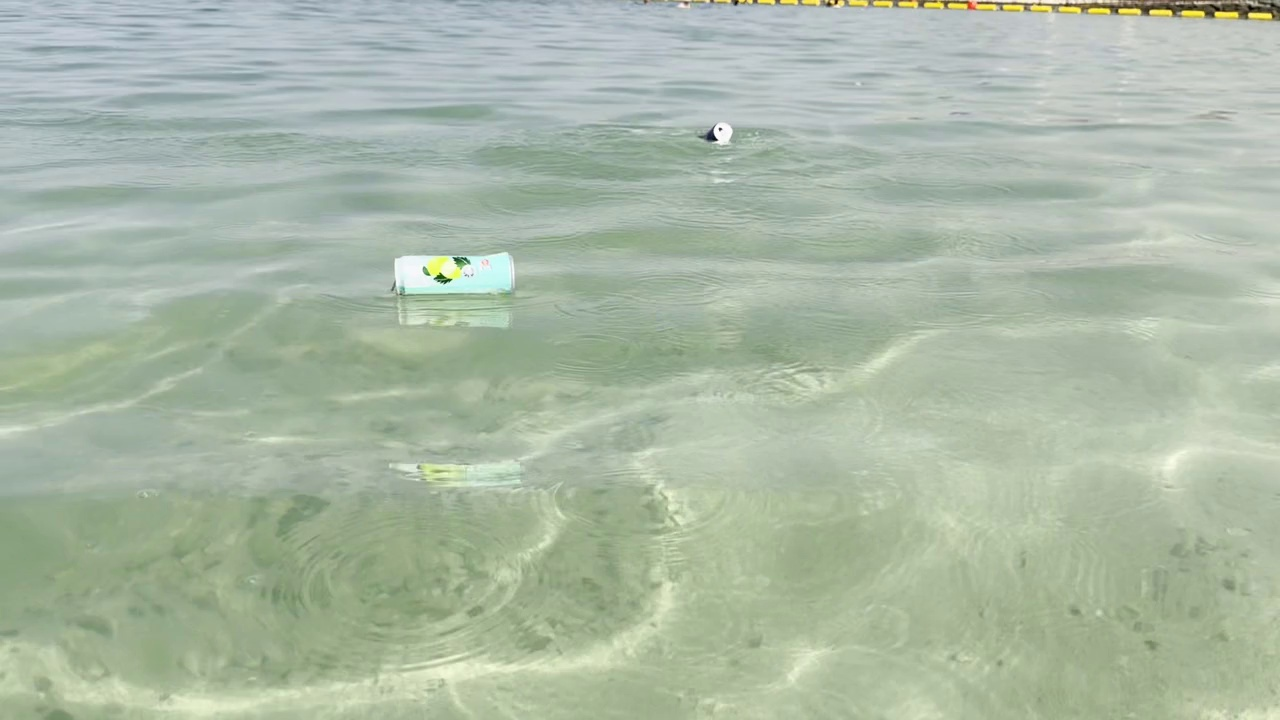debris: (385, 247, 522, 307), (696, 114, 737, 146)
